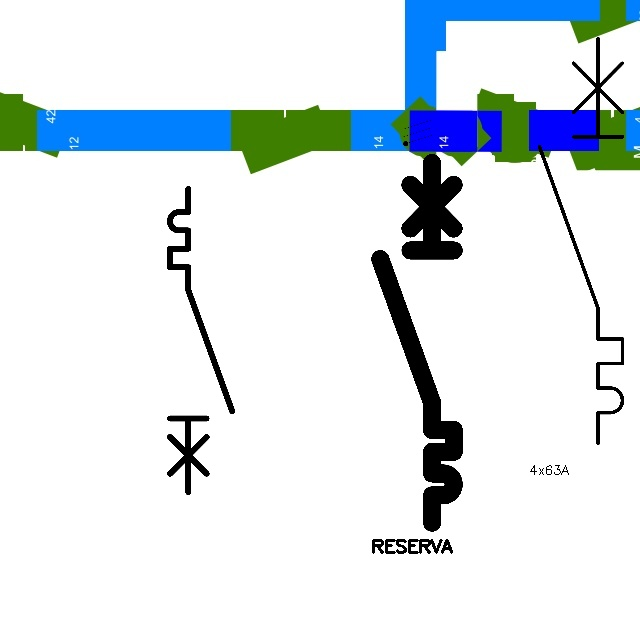interruptor_termomagnetico: (529, 28, 633, 454), (371, 153, 463, 532), (162, 181, 240, 500)
